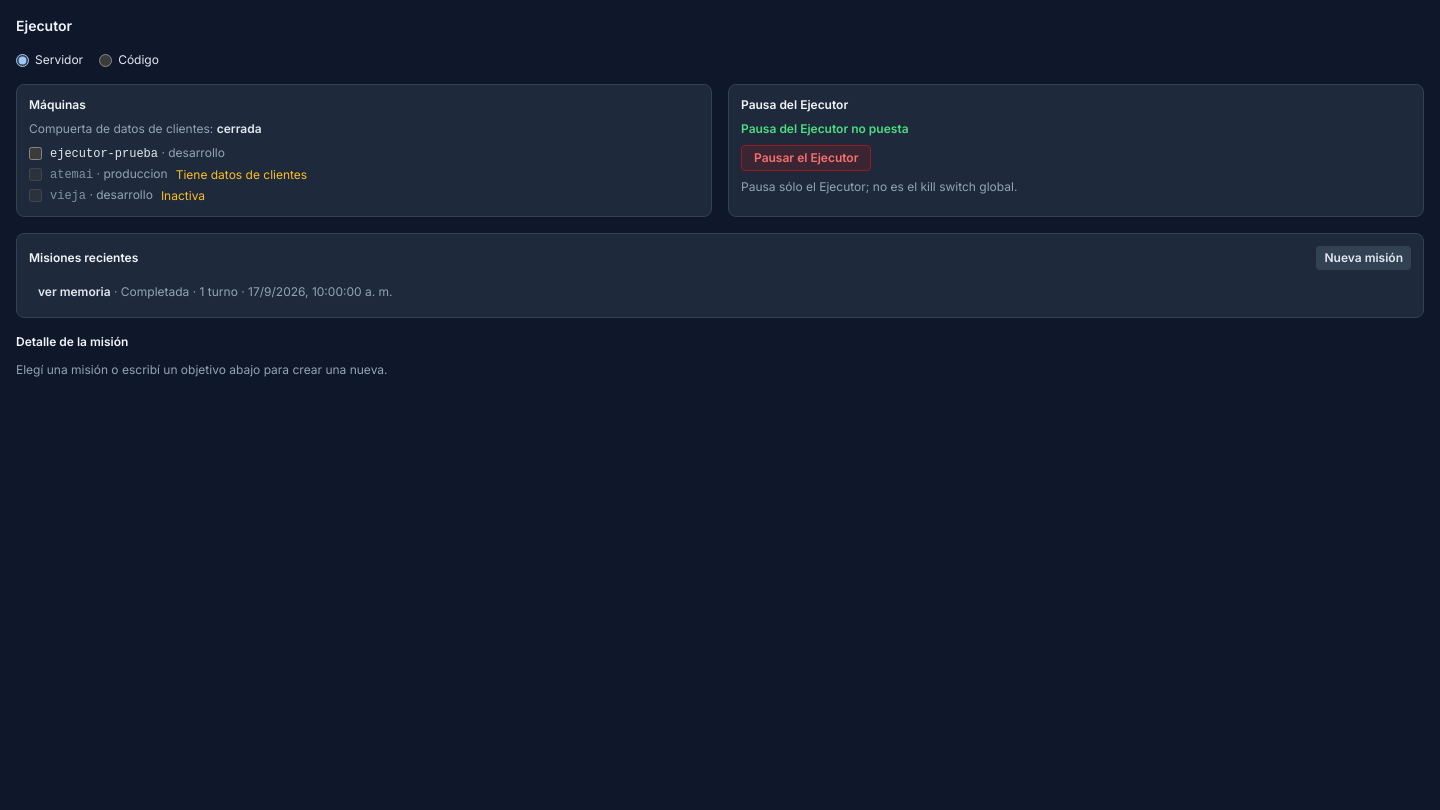
it: Ejecutor -- detalle de misión › completada con afirmaciones: dato, máquina, comando y la línea citada literal y completa
Click the button "ver memoria" at {"x": 74, "y": 292}, box [29,279,1411,305]
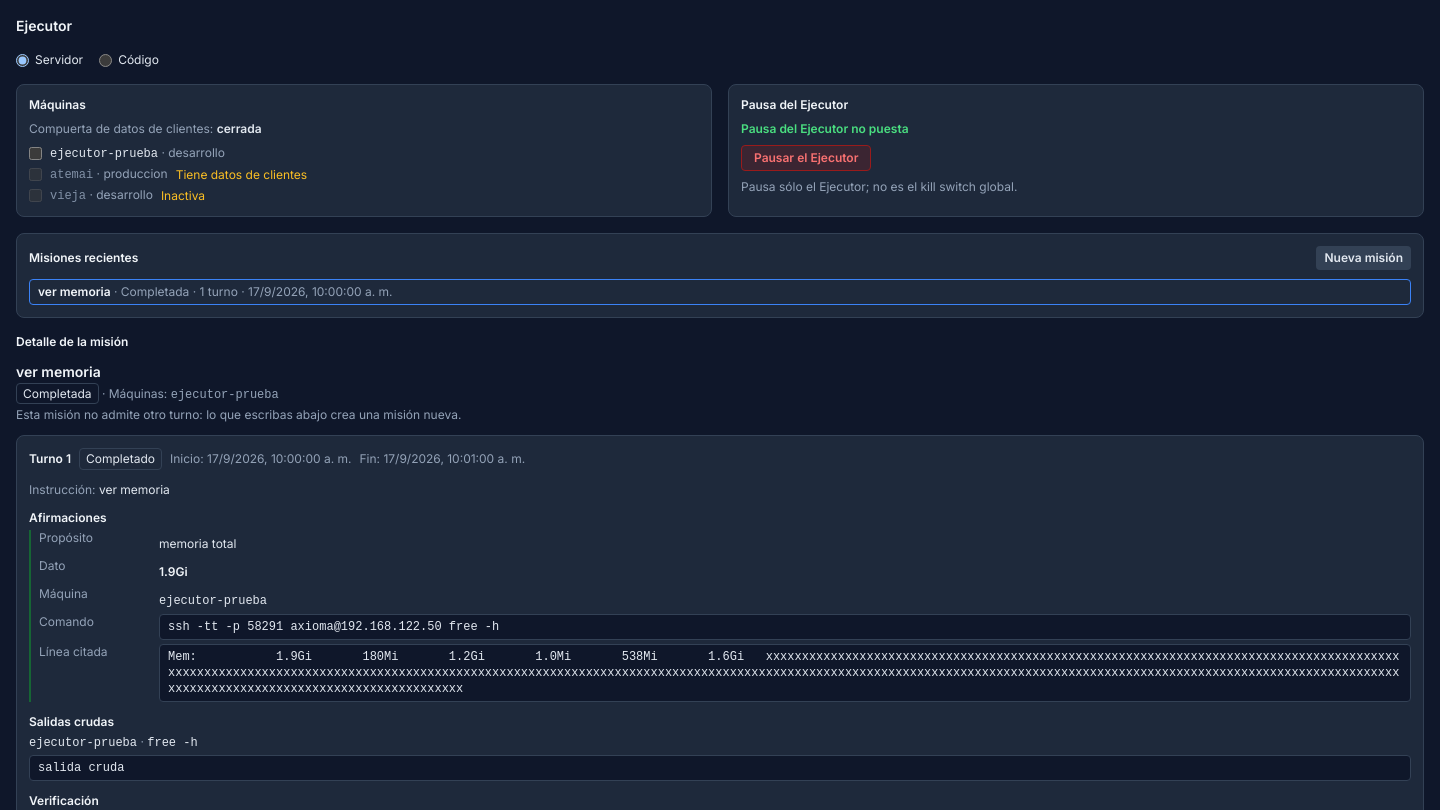
Now the text "1.9Gi" is shown, box [159,564,188,579]
Now the text "ssh -tt -p 58291 axioma@192.168.122.50 free -h" is shown, box [159,614,1411,640]
Now the text "Dato" is shown, box [39,558,65,573]
